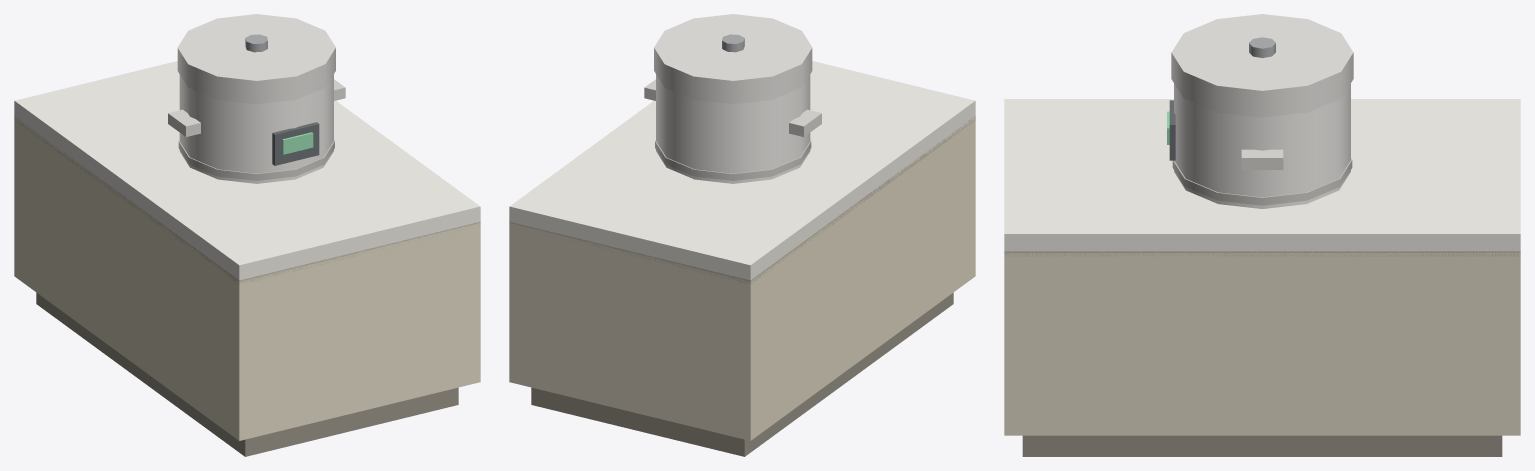
Rendered from cooker.glb.
3 views of the same model, side by side, from view 1: azimuth 30°, elevation 25°; view 2: azimuth 150°, elevation 25°; view 3: azimuth 270°, elevation 25° (orthographic). The views are drawn at different scales.
Visible parts, largest first — view 1: counter_body, counter_top, lid, cooker_body, counter_kick, counter_trim, body_band, control_panel, cooker_handle_-1, display; view 2: counter_body, counter_top, lid, cooker_body, counter_kick, counter_trim, body_band, cooker_handle_-1; view 3: counter_body, counter_top, lid, cooker_body, counter_kick, counter_trim, body_band, cooker_handle_1.
Boxes of the visible parts, box(x1,y1,x2,y2) form: counter_body: box(14, 117, 480, 440); counter_top: box(14, 61, 480, 281); lid: box(177, 14, 335, 104); cooker_body: box(179, 74, 333, 183); counter_kick: box(36, 292, 458, 456); counter_trim: box(14, 116, 480, 284); body_band: box(178, 140, 334, 180); control_panel: box(272, 122, 319, 165); cooker_handle_-1: box(168, 109, 200, 136); display: box(282, 132, 313, 154); counter_body: box(509, 117, 975, 440); counter_top: box(509, 61, 975, 280); lid: box(654, 14, 812, 104); cooker_body: box(656, 74, 810, 183); counter_kick: box(531, 292, 953, 456); counter_trim: box(509, 116, 975, 284); body_band: box(655, 140, 811, 180); cooker_handle_-1: box(789, 109, 821, 136); counter_body: box(1004, 253, 1520, 435); counter_top: box(1004, 99, 1520, 253); lid: box(1171, 14, 1353, 117); cooker_body: box(1174, 83, 1350, 208); counter_kick: box(1022, 435, 1502, 456); counter_trim: box(1004, 251, 1520, 256); body_band: box(1172, 158, 1352, 205); cooker_handle_1: box(1241, 149, 1283, 169).
Bounding box in the file's own units: 1.3 × 1.61 × 2.1.
